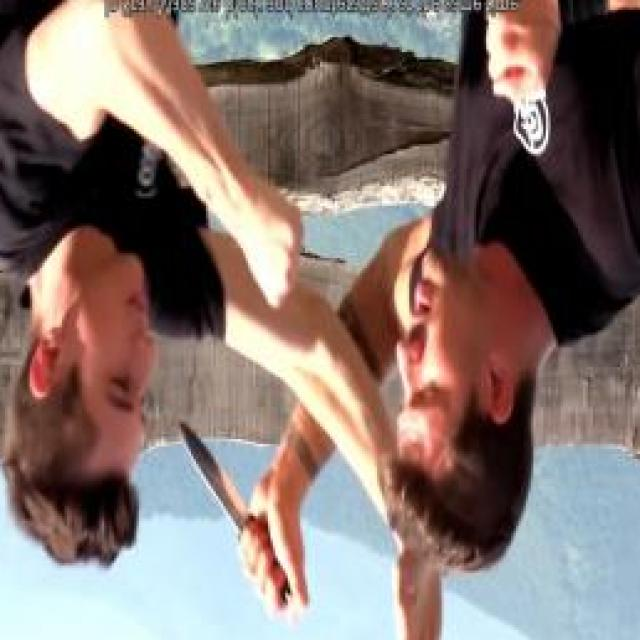knife: (174, 413, 314, 628)
